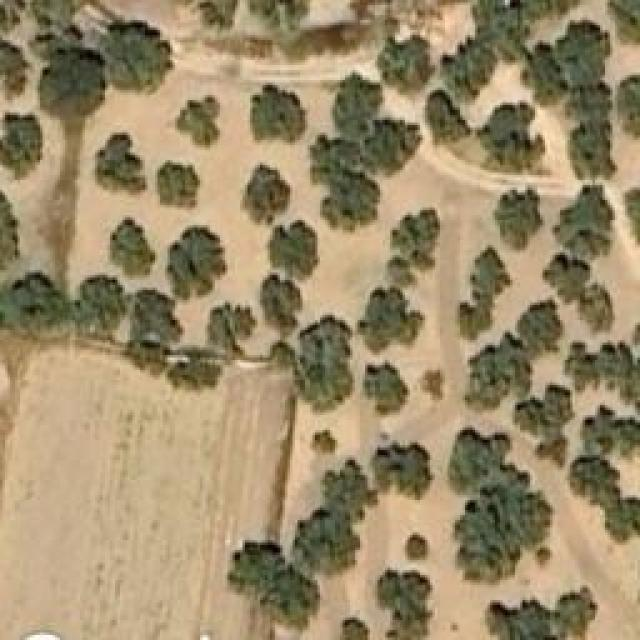Tree: (455, 482, 555, 580), (457, 245, 515, 343), (295, 315, 353, 408), (103, 23, 173, 93), (477, 103, 545, 173), (168, 225, 228, 300), (382, 208, 440, 283), (37, 50, 105, 113), (510, 393, 568, 466), (375, 568, 435, 638), (447, 425, 505, 490), (555, 15, 610, 83), (463, 347, 526, 405), (360, 285, 418, 348), (93, 133, 148, 198), (320, 172, 380, 230), (293, 518, 356, 573), (70, 275, 125, 335), (373, 440, 428, 500), (253, 85, 308, 143), (10, 272, 63, 330), (220, 538, 280, 588), (175, 95, 228, 150), (380, 33, 433, 88), (320, 460, 373, 515), (110, 218, 158, 278), (242, 165, 290, 225), (0, 112, 42, 179), (483, 600, 553, 640), (270, 223, 320, 278), (363, 360, 413, 415), (330, 75, 380, 130), (565, 123, 615, 178), (440, 40, 493, 90), (495, 190, 540, 248), (425, 90, 473, 143), (567, 453, 615, 506), (268, 575, 318, 625), (363, 123, 418, 168), (155, 160, 203, 210), (168, 350, 218, 395), (553, 590, 598, 638), (215, 303, 258, 353), (263, 275, 303, 328), (310, 138, 358, 178), (0, 37, 30, 95), (517, 310, 555, 353), (617, 74, 640, 137), (403, 533, 443, 566), (550, 258, 585, 293), (417, 368, 445, 403), (340, 617, 367, 640), (315, 432, 335, 450)
